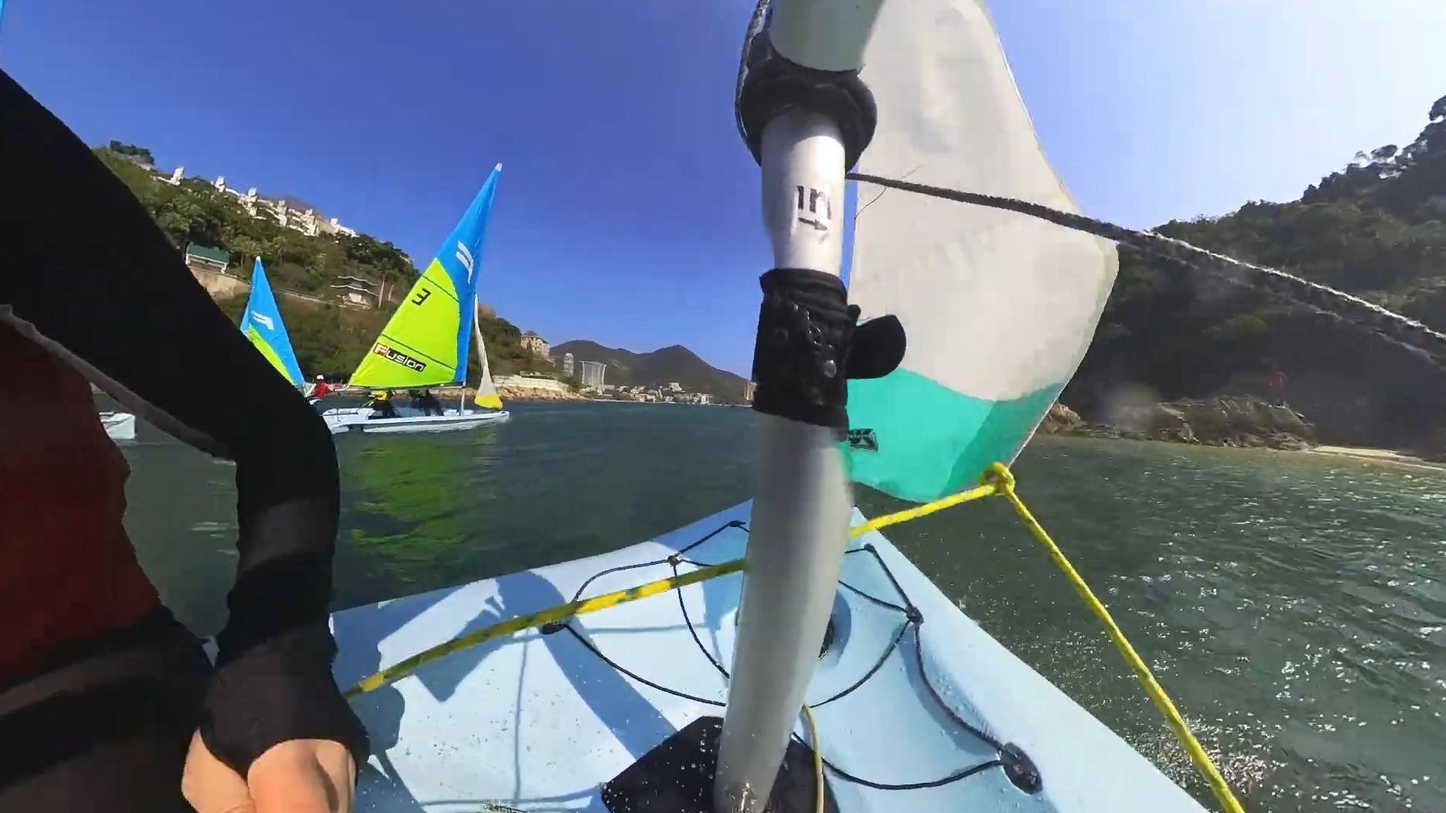boat: (0, 0, 1213, 813)
land: (1061, 104, 1446, 459), (94, 142, 420, 379), (476, 305, 755, 406)
person: (0, 67, 367, 813)
sea: (880, 435, 1446, 813), (329, 404, 758, 611), (123, 443, 239, 655)
sky: (0, 0, 776, 381), (980, 0, 1446, 232)
